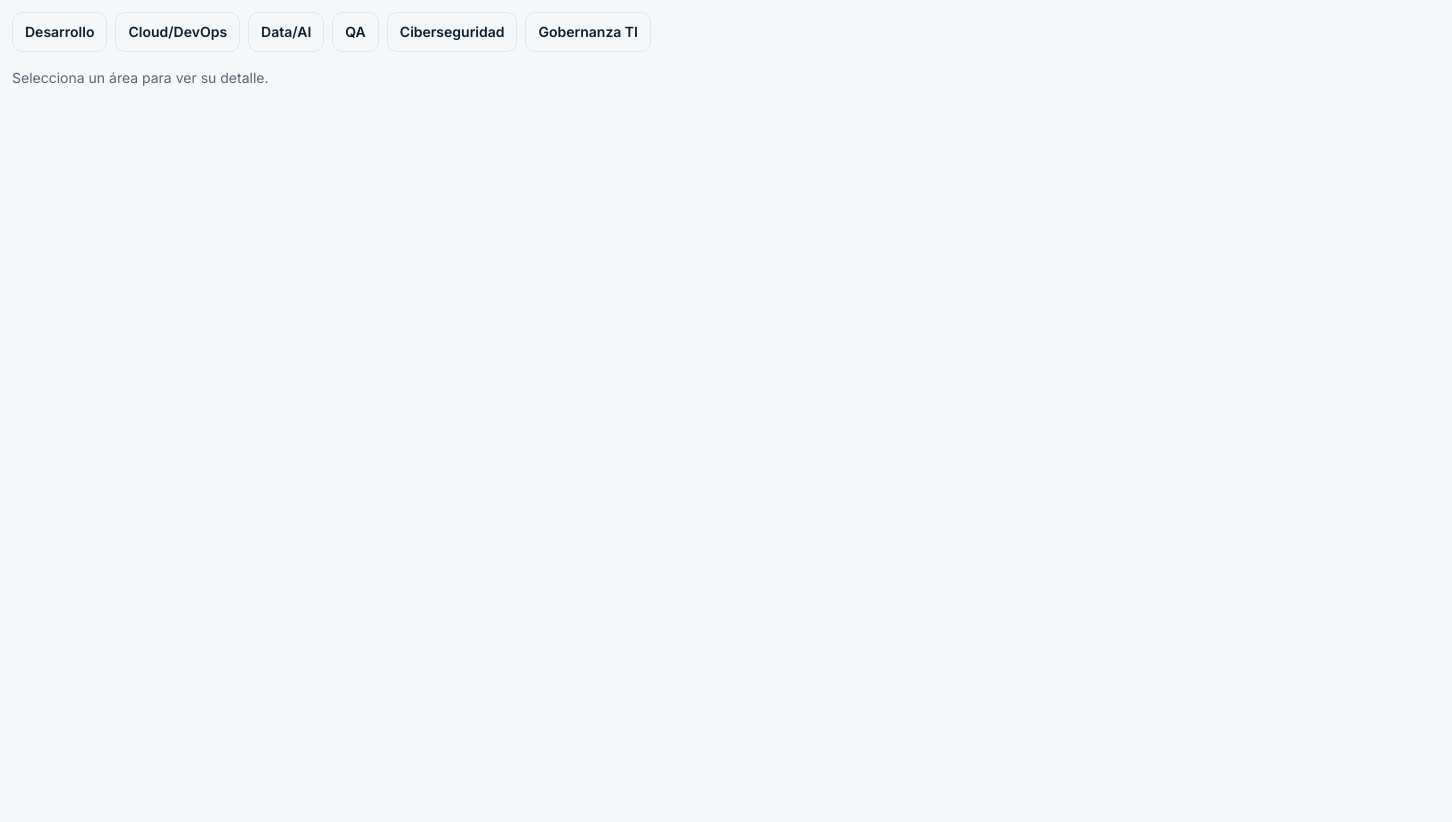
AreaDetailInteraction - validación funcional › muestra la información correspondiente al área seleccionada
Click the button "Desarrollo": point(60, 32) [12, 12, 108, 52]
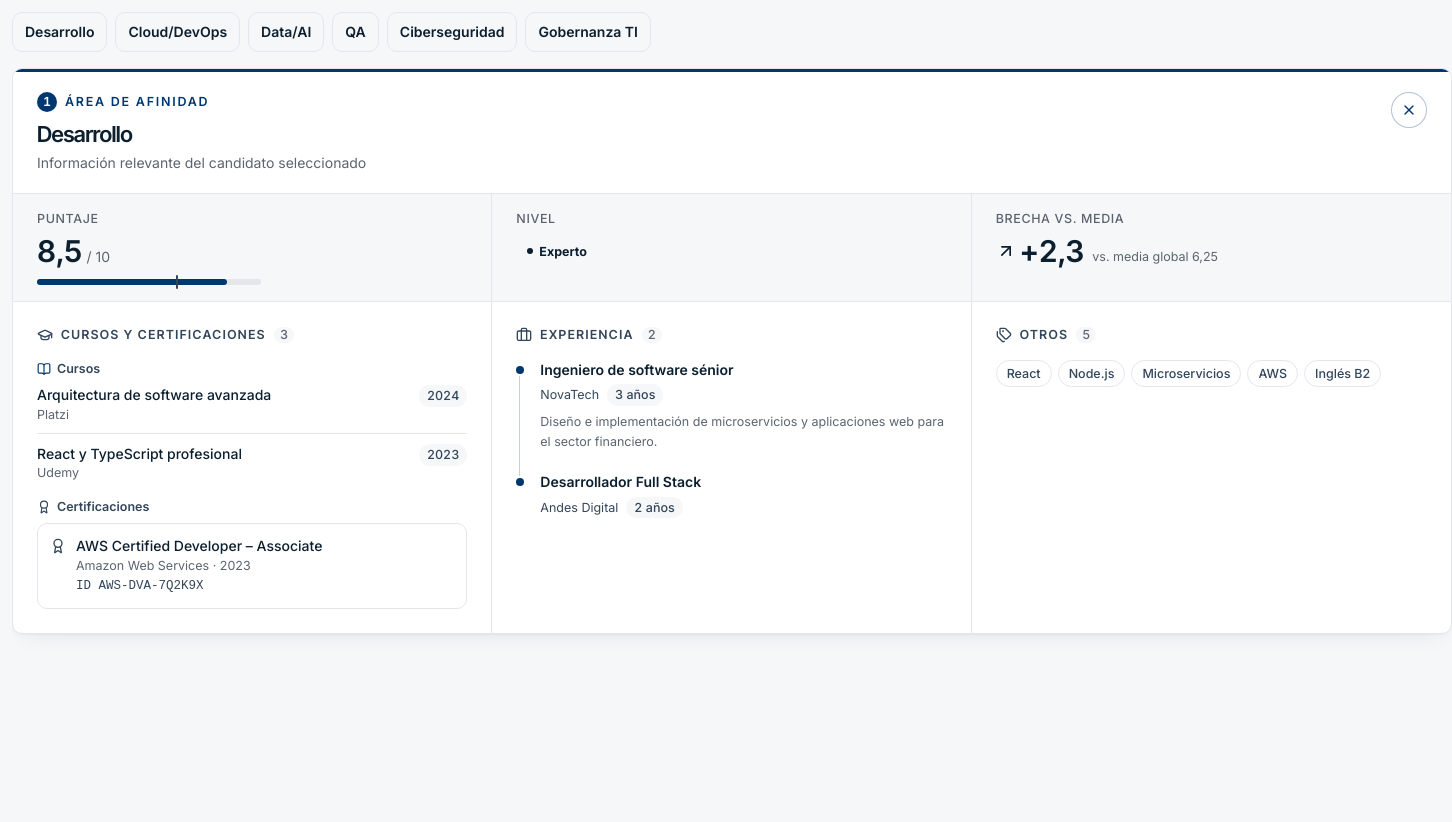
Now the element "Desarrollo" is shown
Now the text "8,5" is shown, box [37, 233, 83, 269]
Now the text "/ 10" is shown, box [86, 248, 110, 265]
